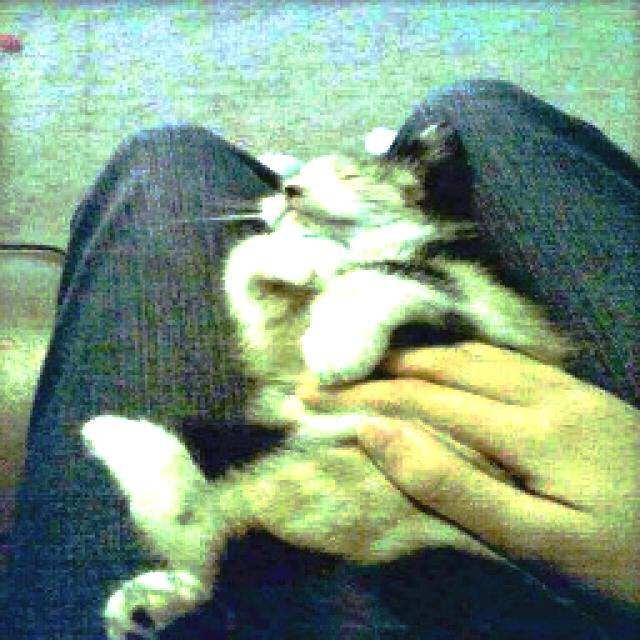cat: (80, 91, 546, 604)
